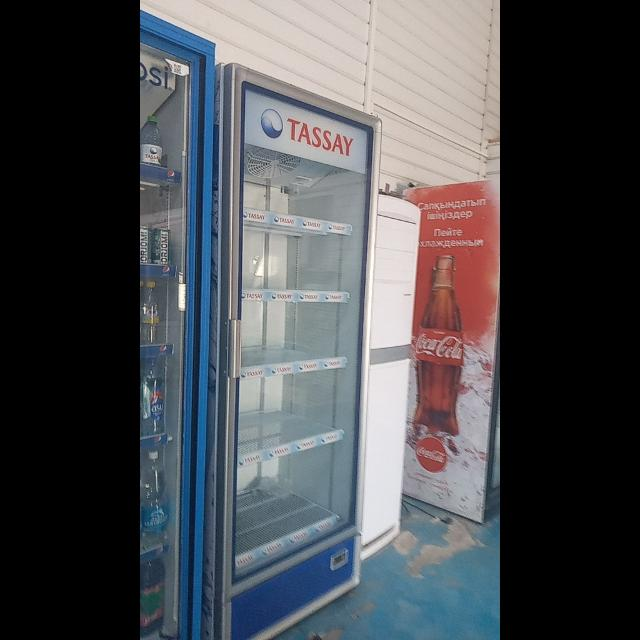Cooling-Display: (214, 62, 382, 640)
